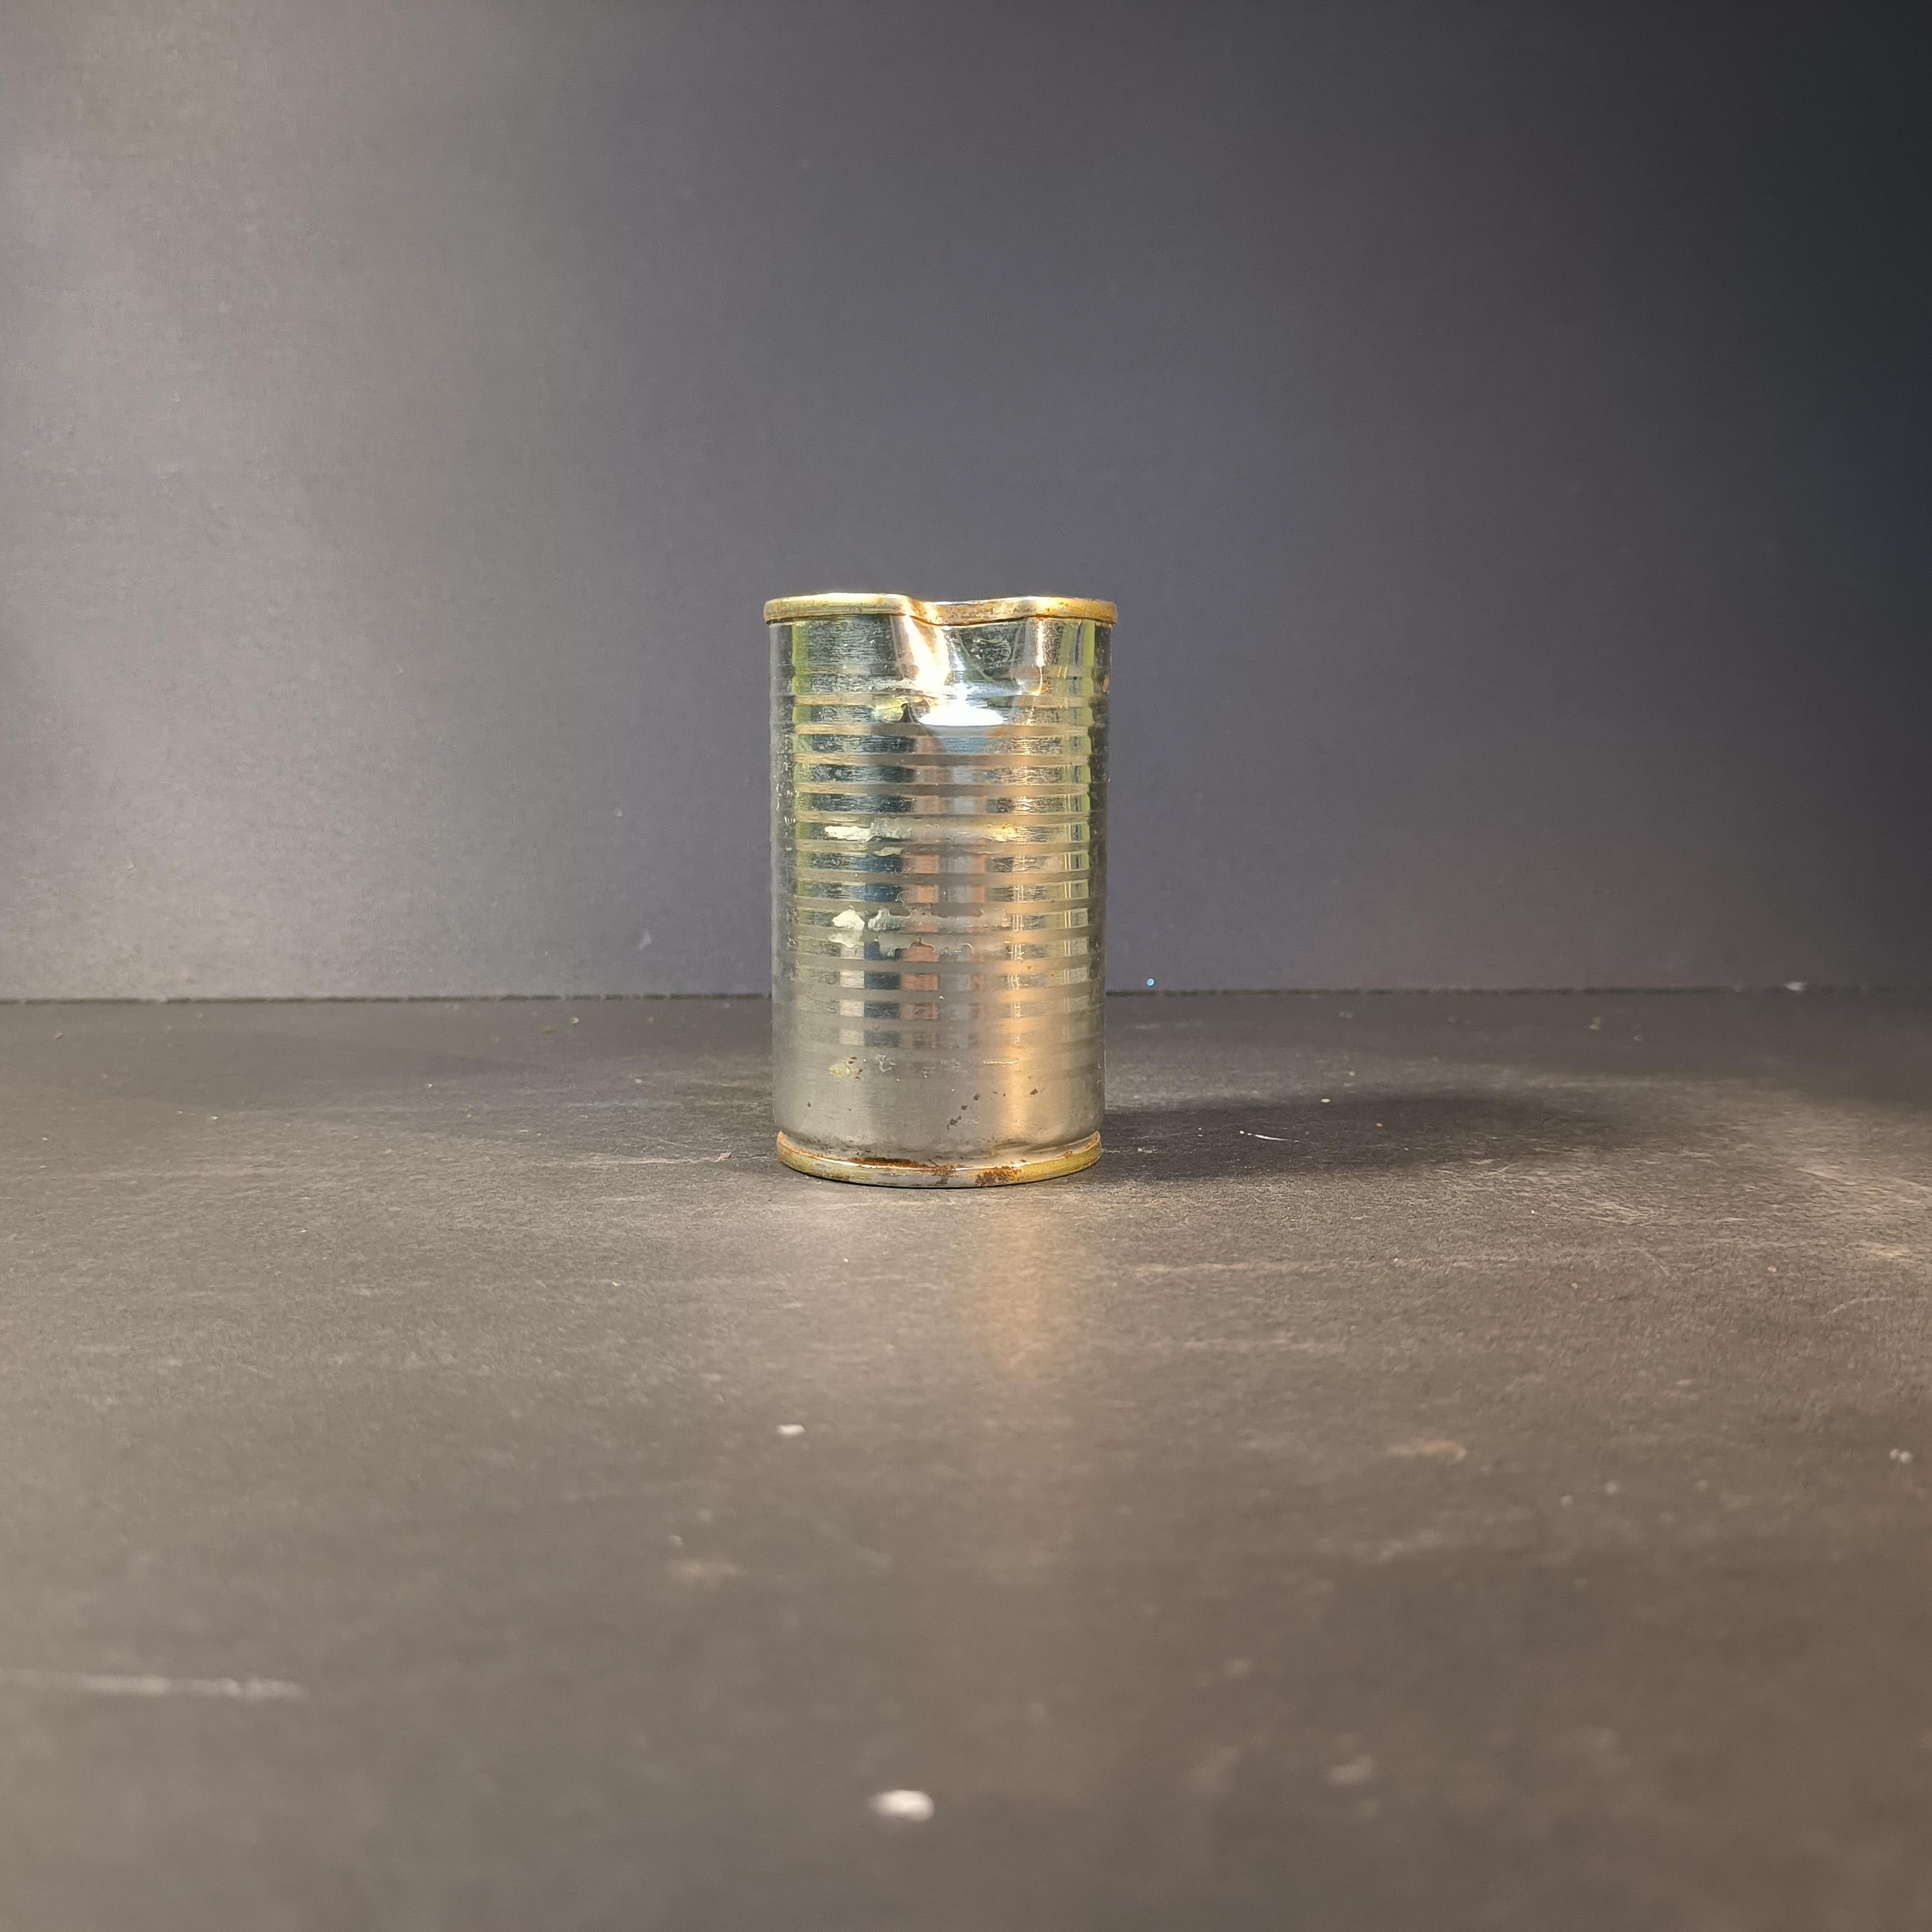Dented: (732, 543, 1138, 1224)
